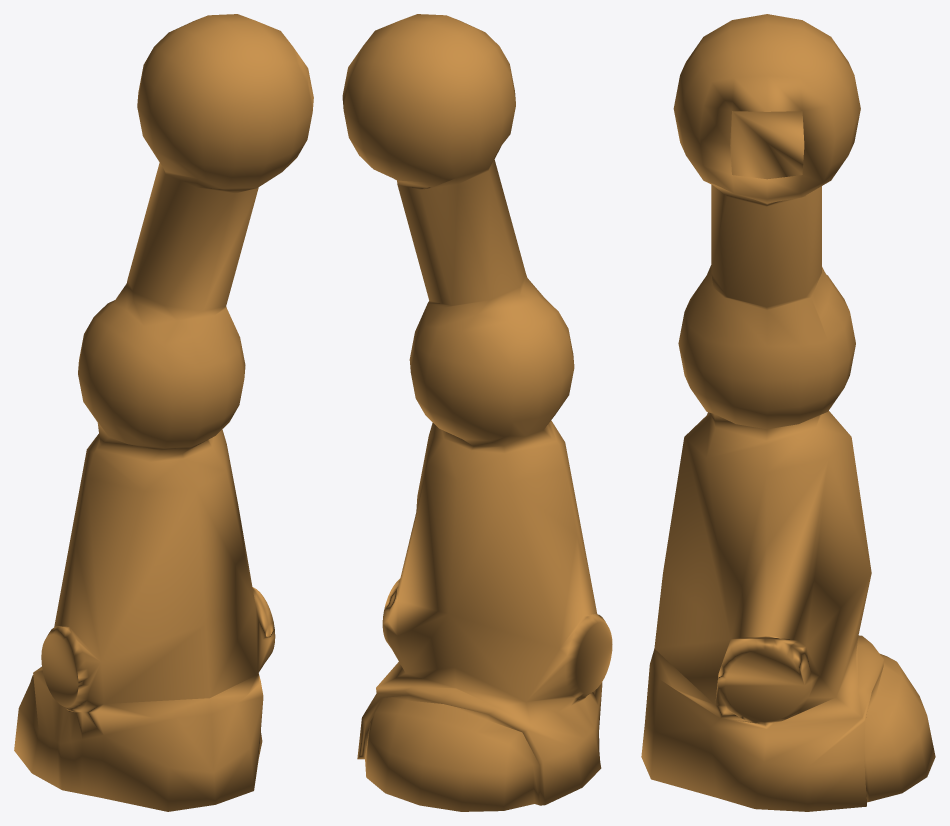
Rendered from Foot_L (1).fbx.
The picture shows the model from 3 angles, left to right: view 1: azimuth 30°, elevation 25°; view 2: azimuth 150°, elevation 25°; view 3: azimuth 270°, elevation 25°; orthographic projection. The views are drawn at different scales.
Visible parts, largest first — view 1: Nails.001; view 2: Nails.001; view 3: Nails.001.
Boxes of the visible parts, x1=… form: Nails.001: x1=14, y1=14, x2=313, y2=811; Nails.001: x1=342, y1=14, x2=612, y2=811; Nails.001: x1=641, y1=14, x2=935, y2=811.
Bounding box in the file's own units: 24.28 × 68.19 × 23.64.
